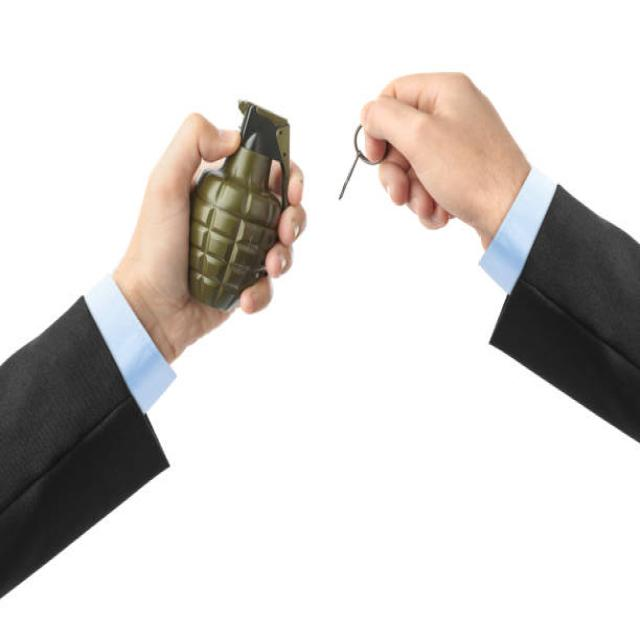grenade: (186, 92, 299, 313)
